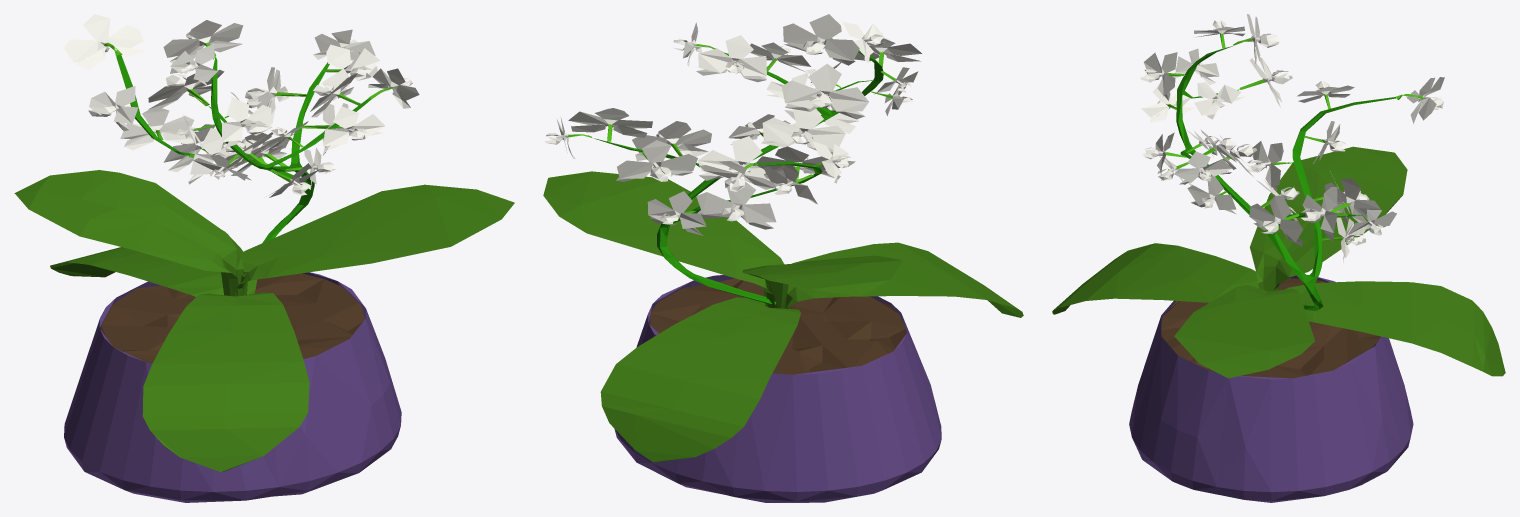
The model's file is sh-bs0-orchids.glb.
3 views of the same model, side by side, from view 1: azimuth 30°, elevation 25°; view 2: azimuth 150°, elevation 25°; view 3: azimuth 270°, elevation 25° (orthographic). The views are drawn at different scales.
Visible parts, largest first — view 1: Leaf.003_Plane.003, Pot_Cylinder, Flower.024_Plane.029, Pot.001_Cylinder.003, stalk_Cylinder.002; view 2: Leaf.003_Plane.003, Pot_Cylinder, Flower.024_Plane.029, Pot.001_Cylinder.003, stalk_Cylinder.002; view 3: Leaf.003_Plane.003, Pot_Cylinder, Flower.024_Plane.029, Pot.001_Cylinder.003, stalk_Cylinder.002.
Part boxes in pixels (bbox=[...]): Leaf.003_Plane.003: bbox=[14, 170, 514, 471]; Pot_Cylinder: bbox=[64, 272, 401, 502]; Flower.024_Plane.029: bbox=[64, 14, 419, 197]; Pot.001_Cylinder.003: bbox=[101, 273, 364, 363]; stalk_Cylinder.002: bbox=[116, 55, 371, 242]; Leaf.003_Plane.003: bbox=[543, 171, 1023, 462]; Pot_Cylinder: bbox=[614, 275, 941, 502]; Flower.024_Plane.029: bbox=[545, 14, 921, 235]; Pot.001_Cylinder.003: bbox=[650, 278, 905, 374]; stalk_Cylinder.002: bbox=[594, 50, 883, 304]; Leaf.003_Plane.003: bbox=[1052, 146, 1505, 378]; Pot_Cylinder: bbox=[1129, 275, 1413, 502]; Flower.024_Plane.029: bbox=[1140, 14, 1444, 262]; Pot.001_Cylinder.003: bbox=[1161, 278, 1380, 378]; stalk_Cylinder.002: bbox=[1176, 46, 1395, 310].
Bounding box in the file's own units: 0.9998 × 0.9933 × 0.9963.
